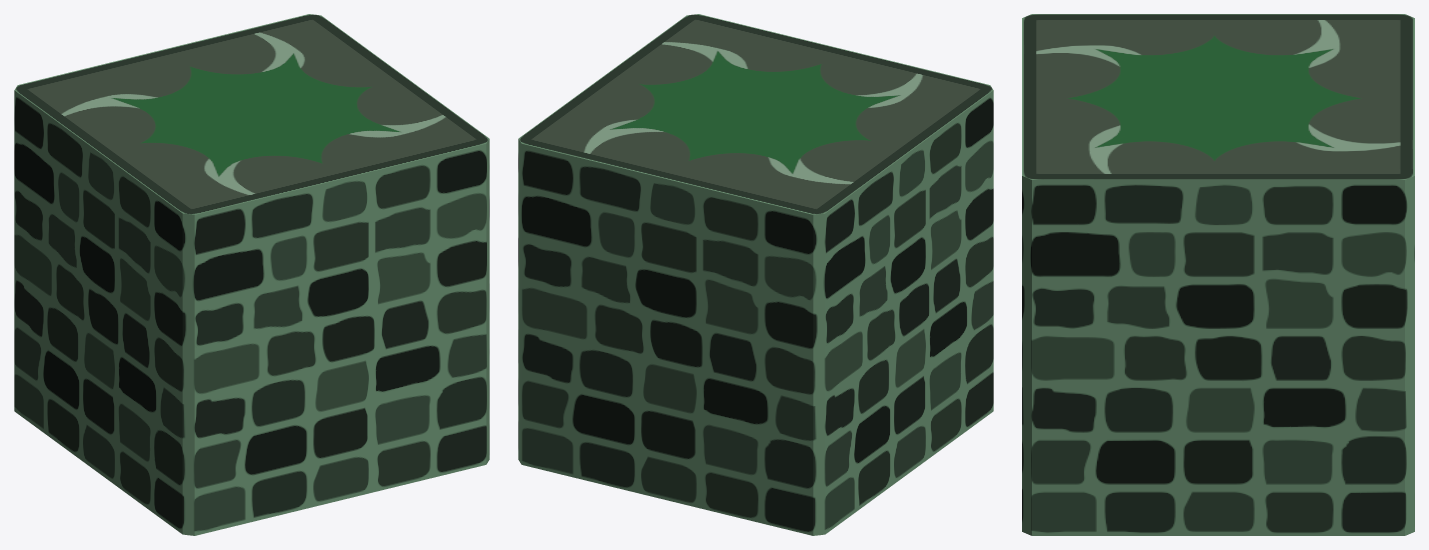
The model's file is phase_block_-_block.obj.
3 renders of one model, left to right at view 1: azimuth 30°, elevation 25°; view 2: azimuth 150°, elevation 25°; view 3: azimuth 270°, elevation 25°, orthographic. The views are drawn at different scales.
Visible parts, largest first — view 1: Phase_Block; view 2: Phase_Block; view 3: Phase_Block.
Boxes of the visible parts, bbox=[...] form: Phase_Block: bbox=[14, 14, 489, 535]; Phase_Block: bbox=[518, 14, 993, 535]; Phase_Block: bbox=[1022, 14, 1414, 535].
Bounding box in the file's own units: 2 × 2 × 2.
1 material, 1 textured.
